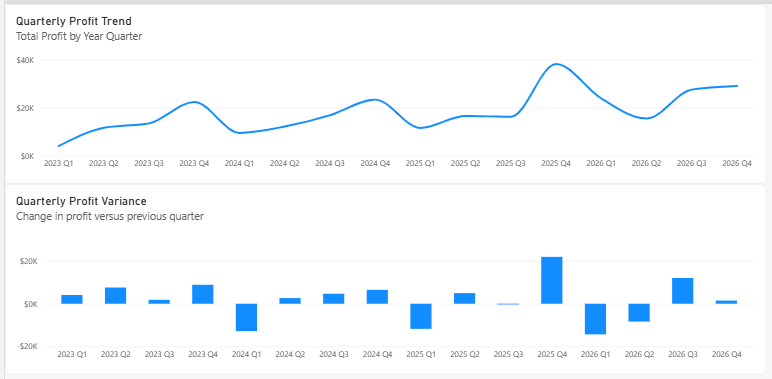

The page's visual inventory and layout, read from the dashboard file:
{"tool":"powerbi","page":{"name":"Trend & Variance","canvas":[1280,720],"ordinal":1},"visuals":[{"type":"lineChart","title":"Quarterly Profit Trend","fields":{"Category":["DateTable.Year Quarter"],"Y":["orders_clean.Total Profit"]},"box":[0,0,1152,272],"z":0},{"type":"clusteredColumnChart","title":"Quarterly Profit Variance","fields":{"Category":["DateTable.Year Quarter"],"Y":["orders_clean.Quarterly Profit Variance"]},"box":[0,272,1152,288],"z":1}]}

Visuals, with their boxes on the page's 1280x720 design canvas (x1, y1, x2, y2). These are canvas units, not pixel positions in the 772x379 screenshot, which may show the page scaled, cropped or inside an application window:
"Quarterly Profit Trend" lineChart: box(0, 0, 1152, 272)
"Quarterly Profit Variance" clusteredColumnChart: box(0, 272, 1152, 560)
